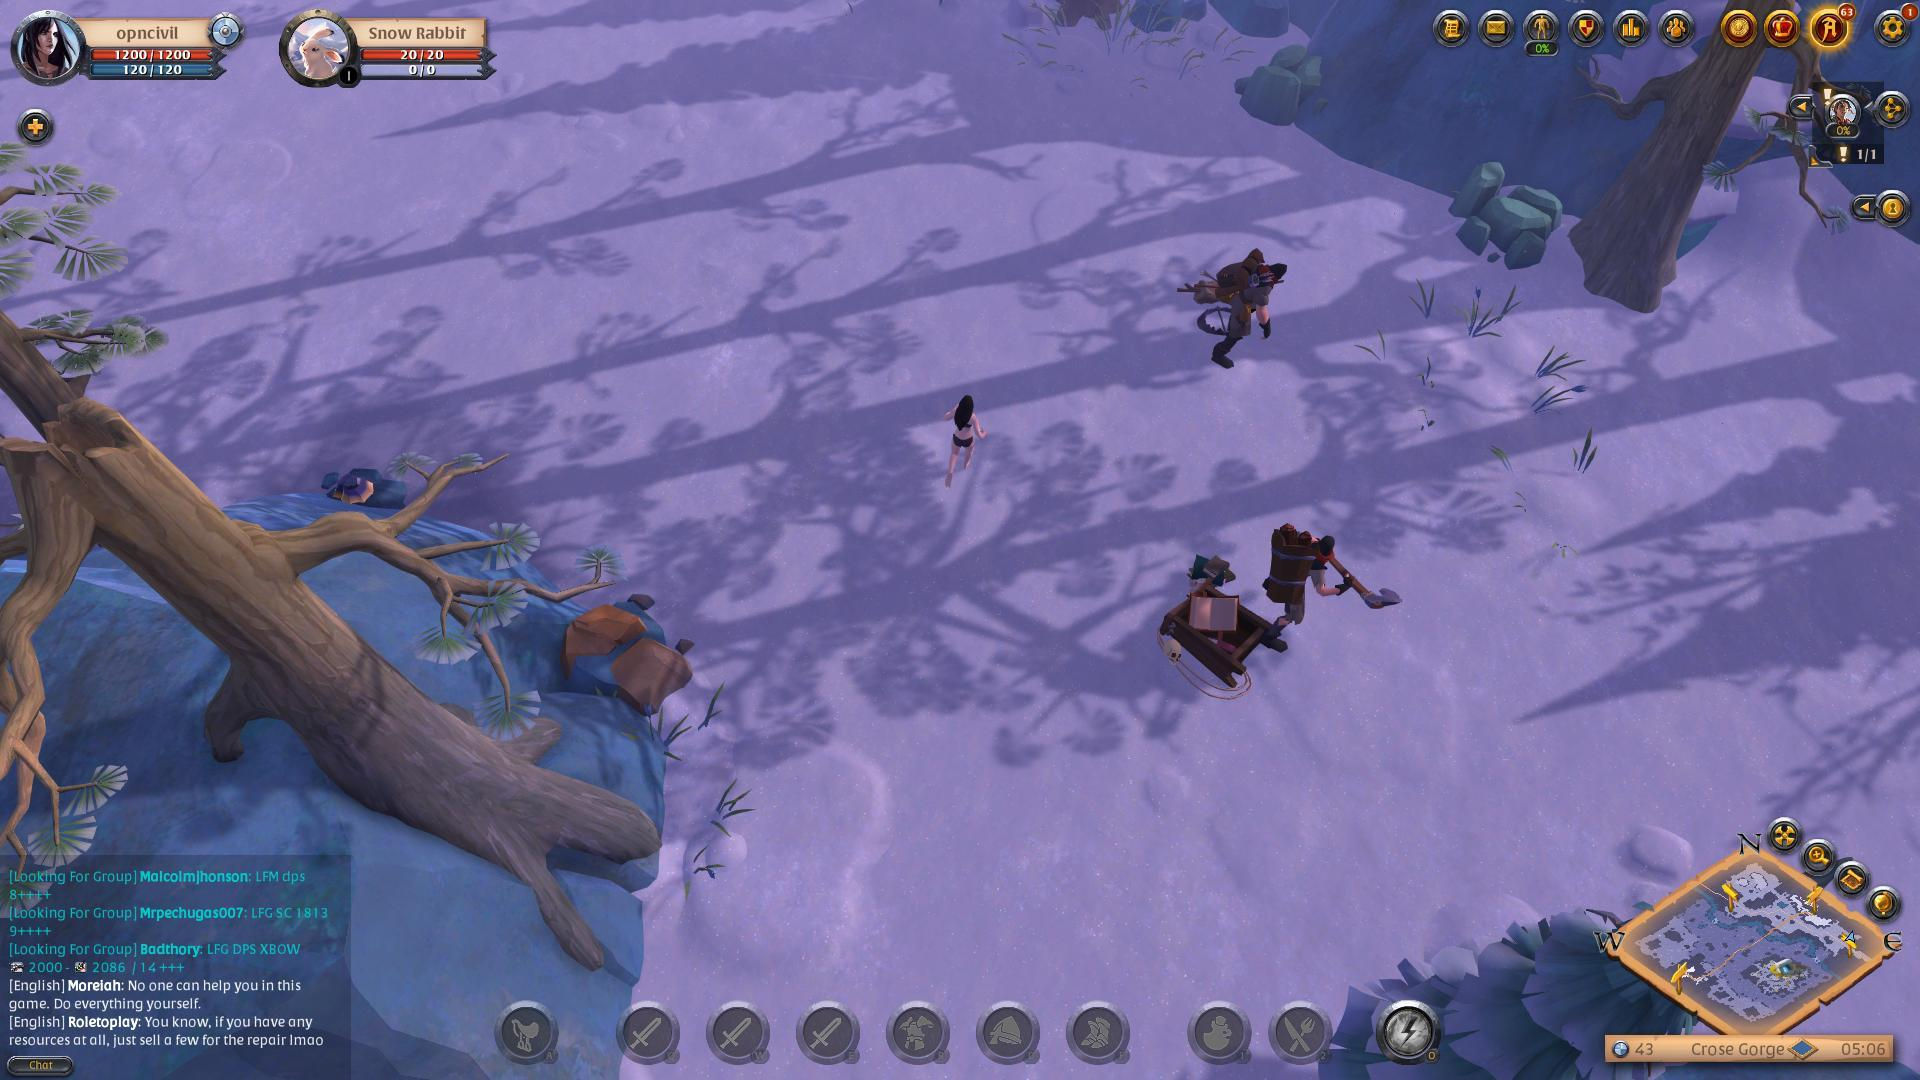mob: (1255, 514, 1408, 663), (1200, 237, 1298, 377)
sandstone: (1439, 179, 1576, 262), (1229, 54, 1350, 128)
